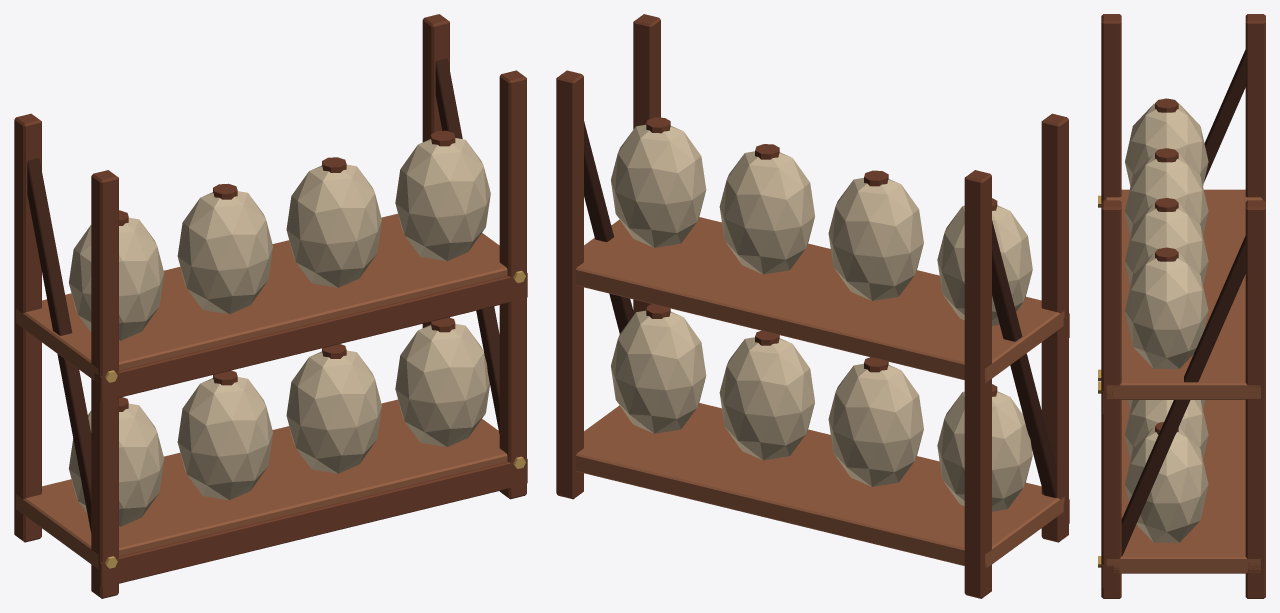
Rendered from grain_rack.glb.
The picture shows the model from 3 angles, left to right: view 1: azimuth 30°, elevation 25°; view 2: azimuth 150°, elevation 25°; view 3: azimuth 270°, elevation 25°; orthographic projection. The views are drawn at different scales.
Parts seen in each view (by area): view 1: Shelf, Shelf_001, Front_rail_001, Front_rail, Post, Post_002, Post_001, Grain_135_1_Sack, Grain_135_3_Sack, Grain_22_1_Sack, Grain_135_2_Sack, Grain_22_2_Sack (+6 smaller); view 2: Shelf, Shelf_001, Post_001, Post_003, Post, Grain_135_2_Sack, Grain_22_2_Sack, Grain_135_1_Sack, Grain_135_3_Sack, Grain_22_1_Sack, Grain_22_3_Sack, Grain_22_0_Sack (+4 smaller); view 3: Shelf_001, Shelf, Post_003, Post_002, Grain_135_3_Sack, Grain_22_3_Sack, Brace_001, Post, Post_001, Grain_135_0_Sack, Grain_135_2_Sack, Grain_135_1_Sack (+8 smaller).
Part boxes in pixels (x1,y1,x2,y2): Shelf: (16, 399, 507, 569); Shelf_001: (16, 213, 507, 382); Front_rail_001: (94, 272, 527, 401); Front_rail: (94, 458, 527, 587); Post: (91, 170, 118, 598); Post_002: (499, 70, 526, 499); Post_001: (14, 113, 41, 542); Grain_135_1_Sack: (177, 191, 272, 314); Grain_135_3_Sack: (395, 138, 490, 261); Grain_22_1_Sack: (177, 377, 272, 500); Grain_135_2_Sack: (286, 164, 381, 287); Grain_22_2_Sack: (286, 350, 381, 473); Shelf: (576, 403, 1064, 568); Shelf_001: (576, 217, 1064, 383); Post_001: (964, 170, 991, 598); Post_003: (556, 70, 583, 499); Post: (1041, 113, 1068, 542); Grain_135_2_Sack: (719, 151, 814, 274); Grain_22_2_Sack: (719, 337, 814, 460); Grain_135_1_Sack: (828, 178, 923, 300); Grain_135_3_Sack: (611, 124, 706, 247); Grain_22_1_Sack: (828, 363, 923, 486); Grain_22_3_Sack: (611, 310, 706, 433); Grain_22_0_Sack: (937, 391, 1032, 511); Shelf_001: (1105, 189, 1262, 399); Shelf: (1106, 400, 1260, 573); Post_003: (1245, 200, 1265, 598); Post_002: (1101, 200, 1121, 598); Grain_135_3_Sack: (1125, 253, 1208, 368); Grain_22_3_Sack: (1125, 426, 1208, 542); Brace_001: (1121, 236, 1245, 555); Post: (1101, 14, 1121, 201); Post_001: (1245, 14, 1265, 201); Grain_135_0_Sack: (1125, 103, 1208, 185); Grain_135_2_Sack: (1125, 203, 1208, 285); Grain_135_1_Sack: (1125, 153, 1208, 235).
Bounding box in the file's own units: 2.72 × 2.55 × 0.99.
